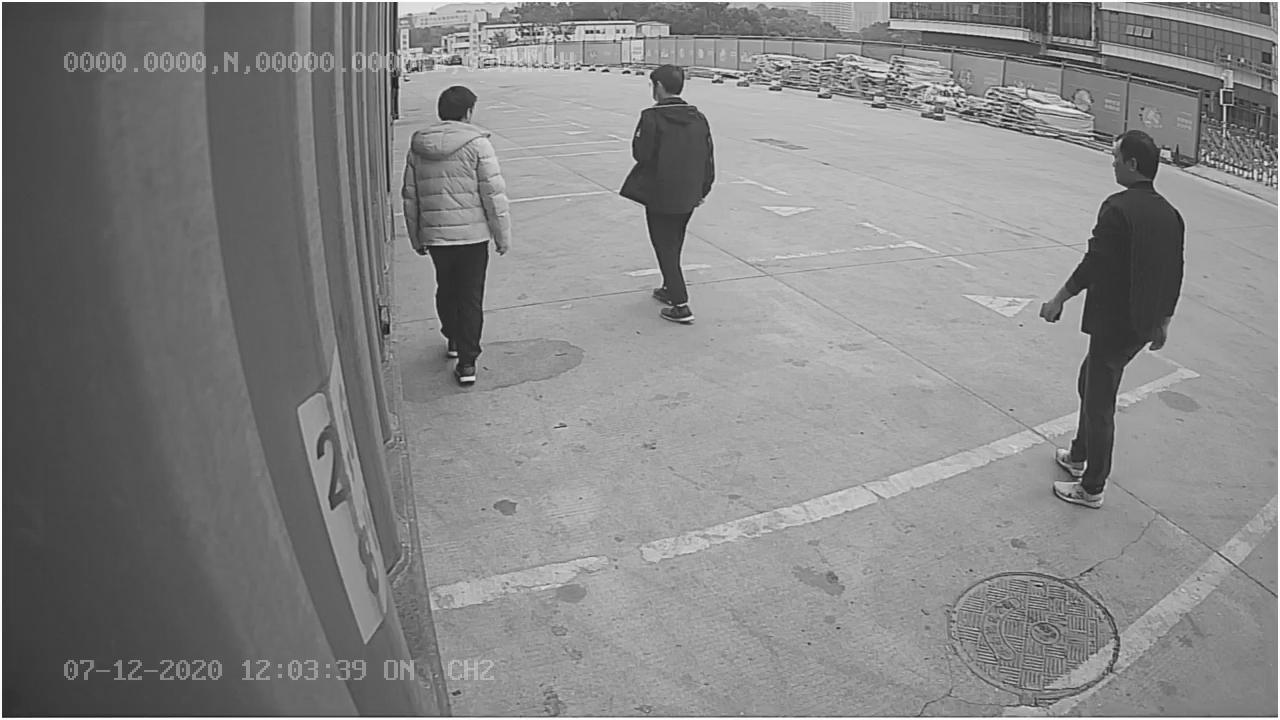person: (1032, 122, 1189, 512), (403, 82, 531, 390), (613, 64, 721, 329)
